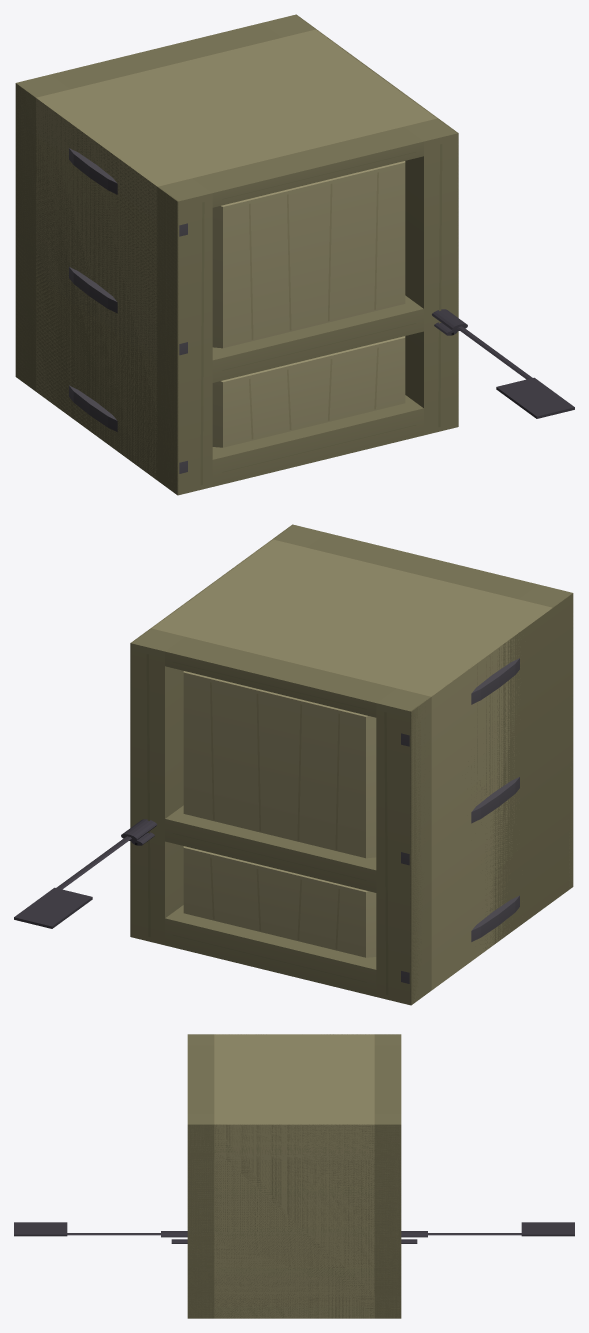
The model's file is door_leaf.glb.
3 views of the same model, one above another, from view 1: azimuth 30°, elevation 25°; view 2: azimuth 150°, elevation 25°; view 3: azimuth 270°, elevation 25° (orthographic). The views are drawn at different scales.
Parts seen in each view (by area): view 1: door_leaf; view 2: door_leaf; view 3: door_leaf.
Part boxes in pixels (x1,y1,x2,y2): door_leaf: [15, 14, 574, 495]; door_leaf: [14, 524, 573, 1005]; door_leaf: [14, 1034, 574, 1318].
Size of the model in its own units: 1.02 by 1 by 2.62.
